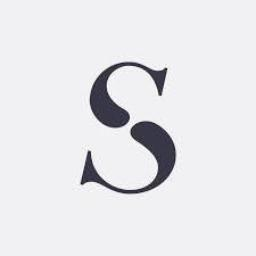s: (65, 44, 187, 200)
